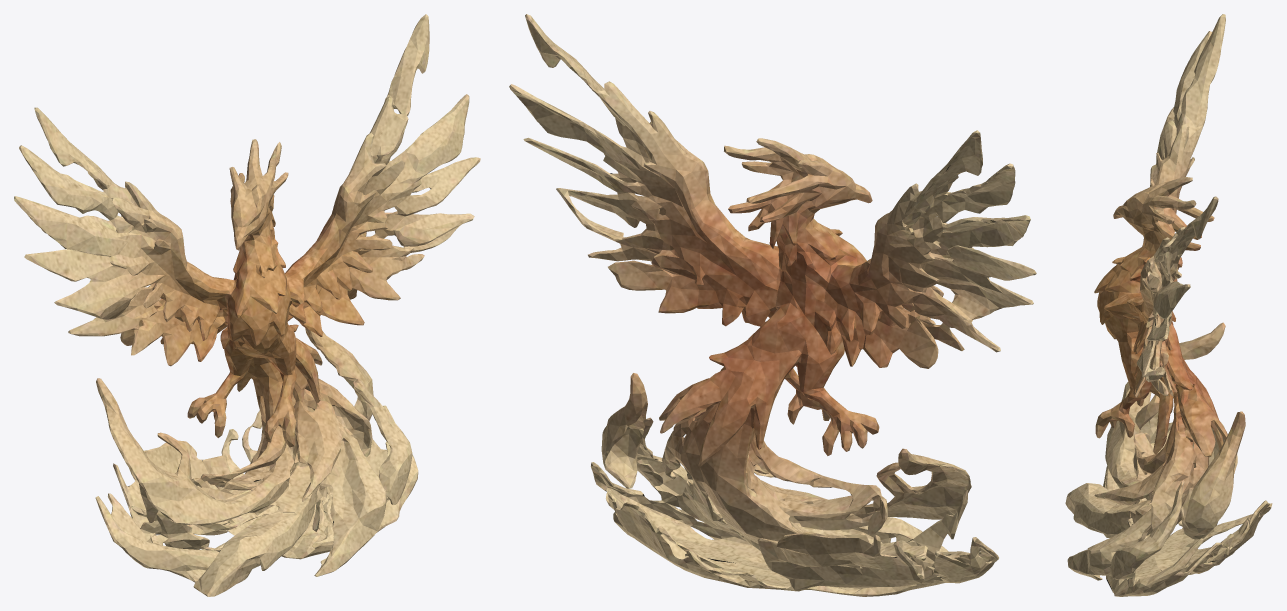
The model's file is creature-phoenix-lite.glb.
The picture shows the model from 3 angles, left to right: view 1: azimuth 30°, elevation 25°; view 2: azimuth 150°, elevation 25°; view 3: azimuth 270°, elevation 25°; orthographic projection. The views are drawn at different scales.
Visible parts, largest first — view 1: HeroDragonMesh; view 2: HeroDragonMesh; view 3: HeroDragonMesh.
Boxes of the visible parts, x1,y1,x2,y2 form: HeroDragonMesh: (14,14,480,596); HeroDragonMesh: (509,14,1036,596); HeroDragonMesh: (1065,14,1272,596).
Bounding box in the file's own units: 2 × 1.98 × 0.8177.
1 material, 1 textured.
